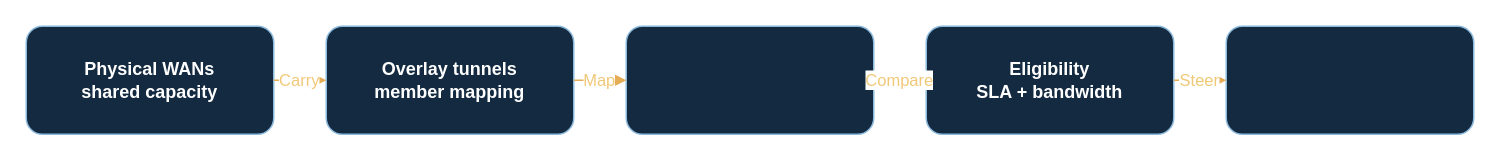
The diagram is 1500 pixels wide and 161 high, and some of its shapes have lost their labels. The centre of each missing label's shape, as x and y in pixels:
Selected member traffic: the point at 1349,79
Service hash + bandwidth-type: the point at 749,79
